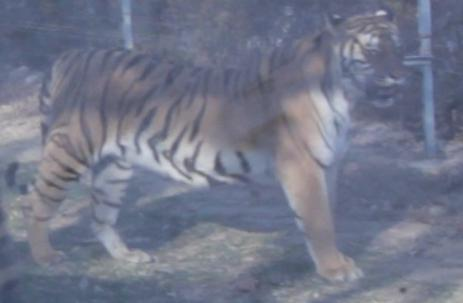tiger: (28, 11, 404, 280)
